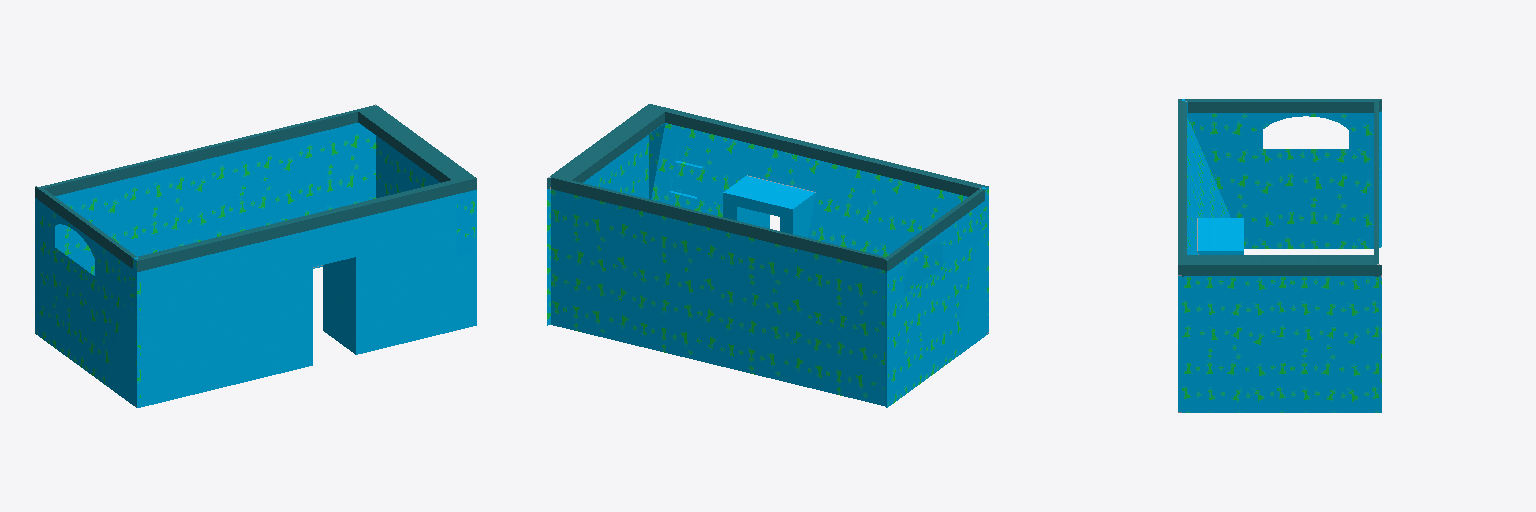
3 views of the same model, side by side, from view 1: azimuth 30°, elevation 25°; view 2: azimuth 150°, elevation 25°; view 3: azimuth 270°, elevation 25° (orthographic).
Visible parts, largest first — view 1: Pared1:Material_028; view 2: Pared1:Material_028; view 3: Pared1:Material_028.
Part boxes in pixels (left/top/right/bottom): Pared1:Material_028: left=35, top=104, right=476, bottom=407; Pared1:Material_028: left=547, top=104, right=988, bottom=407; Pared1:Material_028: left=1178, top=99, right=1381, bottom=412.
Bounding box in the file's own units: 17.26 × 7.16 × 8.98.
1 materials, 1 textured.